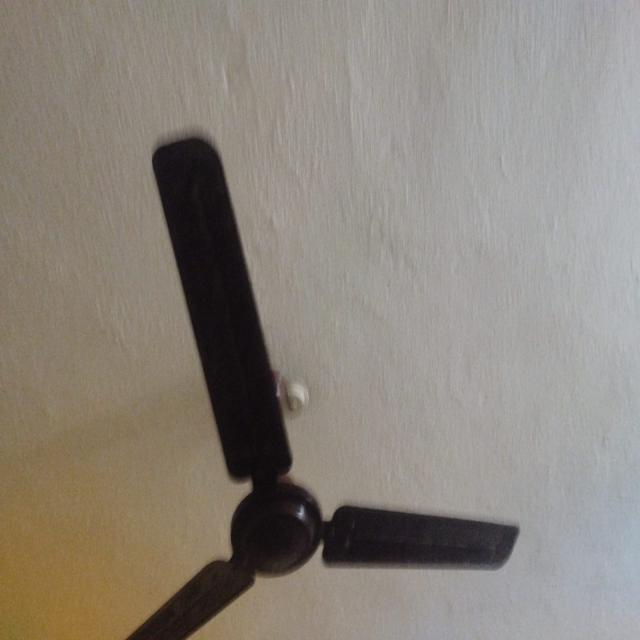fan_off: (129, 129, 522, 640)
